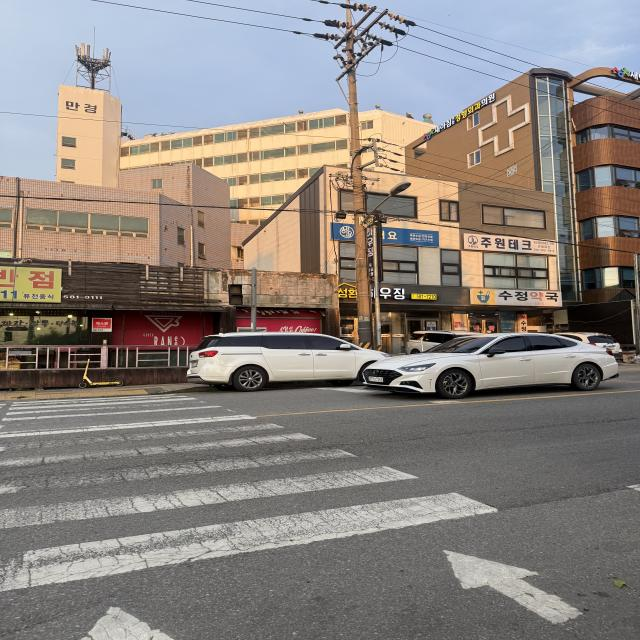car: (186, 319, 392, 391), (384, 333, 612, 398)
